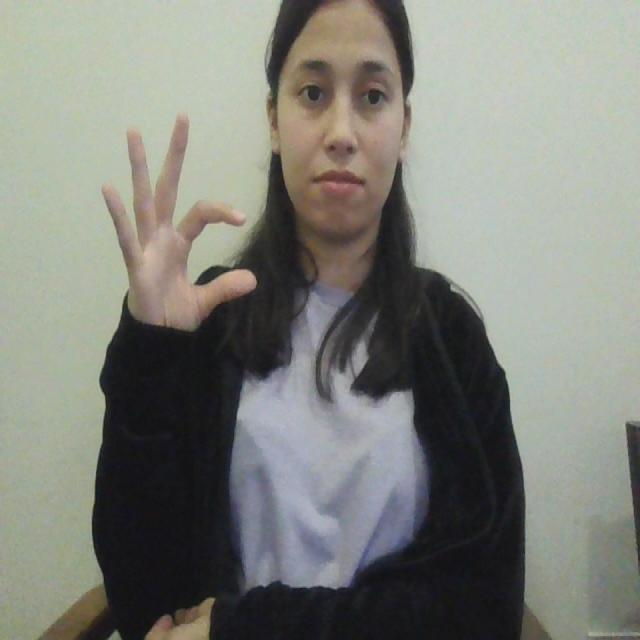Tuvalet: (83, 91, 263, 343)
